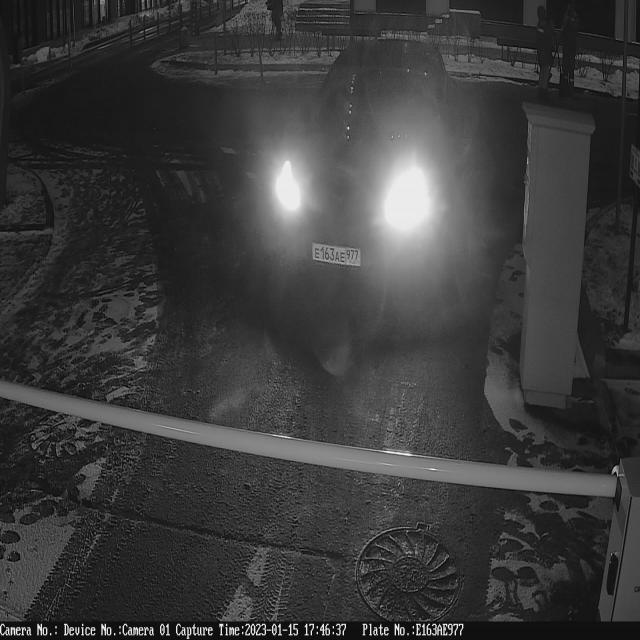car-plate-numbers: (312, 239, 364, 272)
